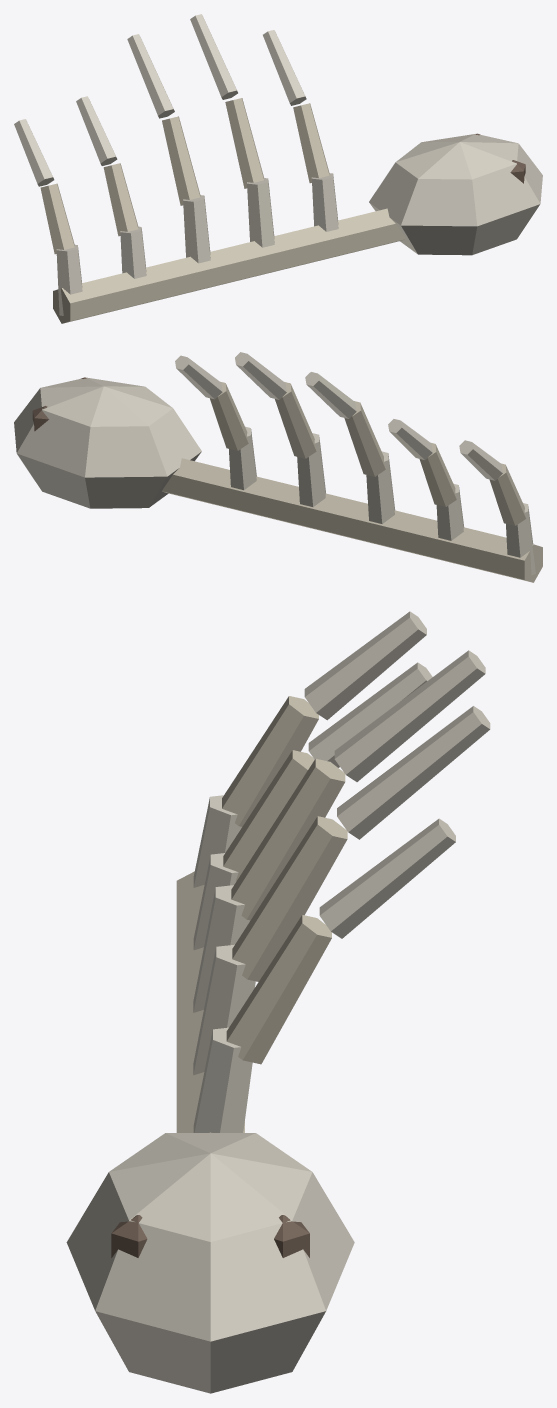
The model's file is tarhut_ossos_1.glb.
The picture shows the model from 3 angles, top to bottom: view 1: azimuth 30°, elevation 25°; view 2: azimuth 150°, elevation 25°; view 3: azimuth 270°, elevation 25°; orthographic projection. The views are drawn at different scales.
Visible parts, largest first — view 1: ossos; view 2: ossos; view 3: ossos.
Boxes of the visible parts, left/top/right/bottom form: ossos: left=14, top=14, right=542, bottom=323; ossos: left=14, top=352, right=542, bottom=582; ossos: left=66, top=611, right=490, bottom=1393.
Size of the model in its own units: 3.4 by 1.57 by 1.29.
